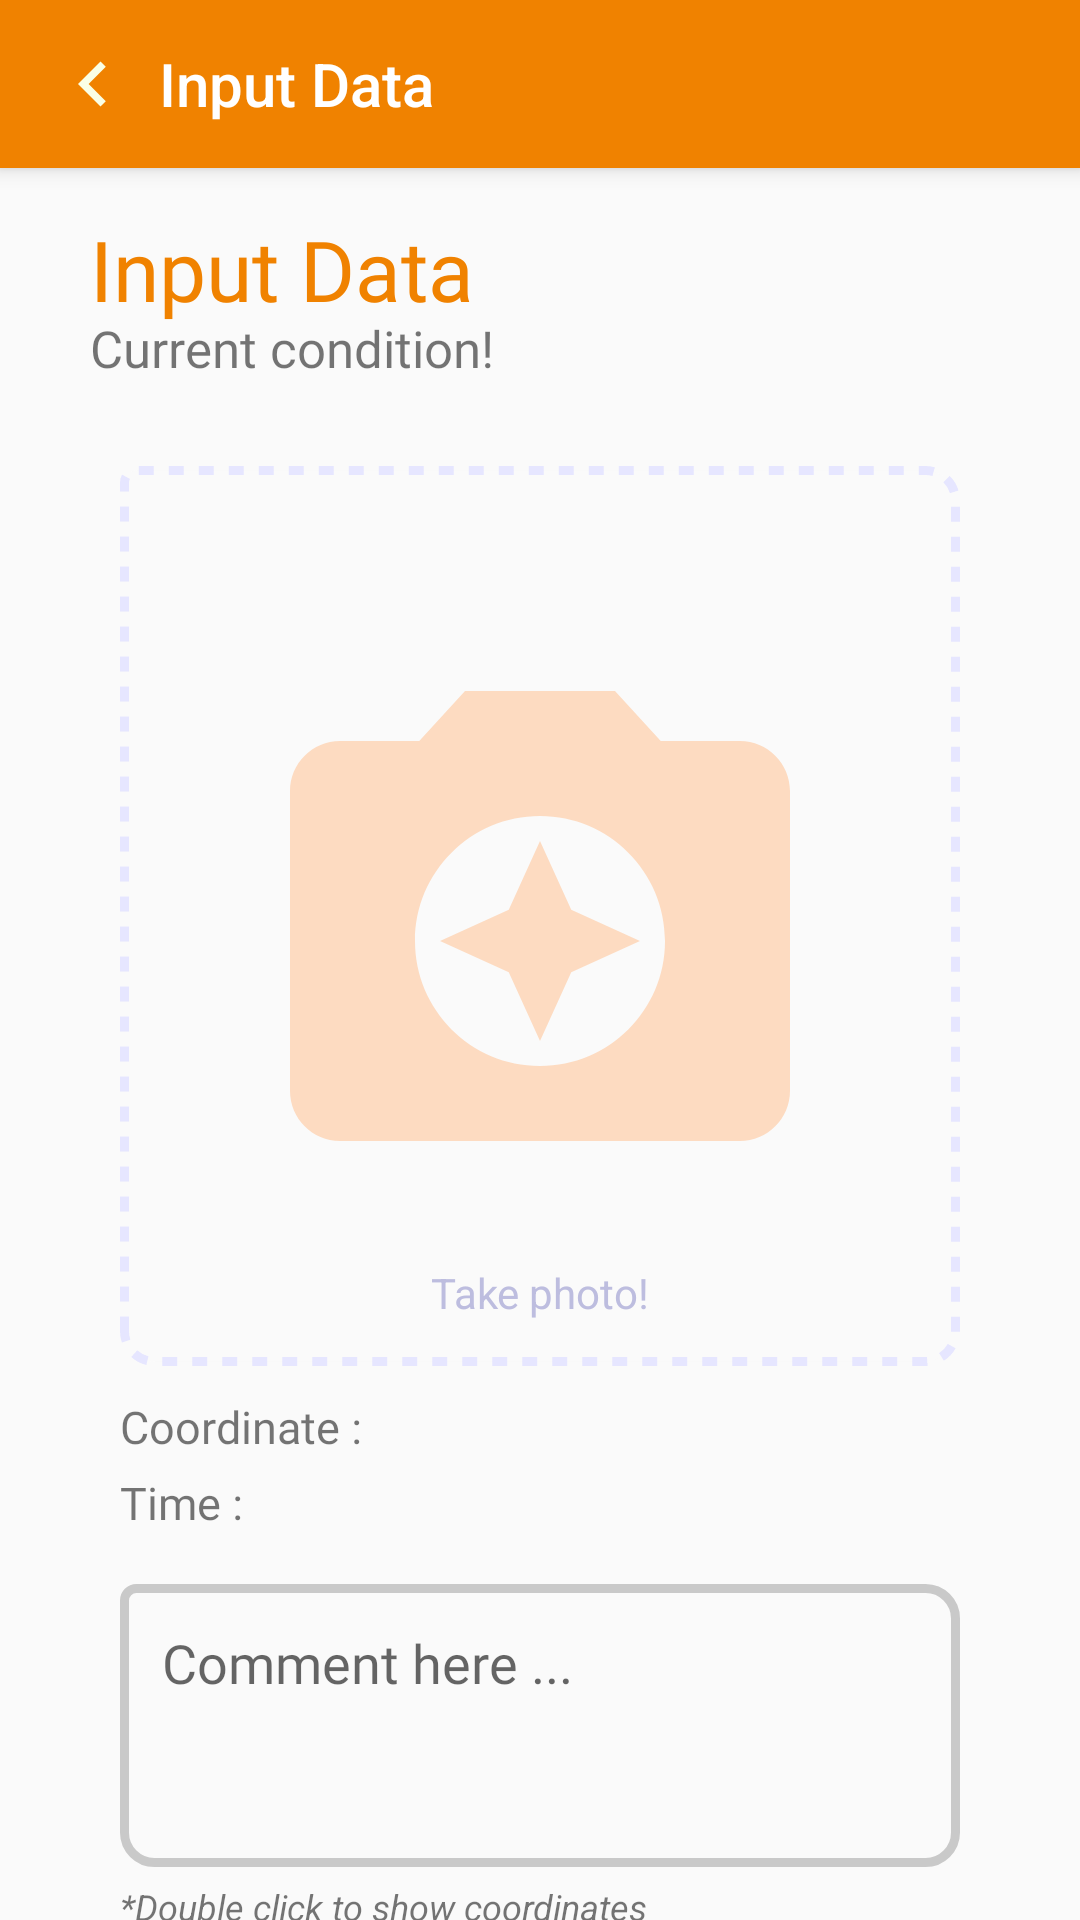

Screen size 1080×1920. Icon name, then its center in pixels as (x=x, y=y):
back: (x=92, y=84)
